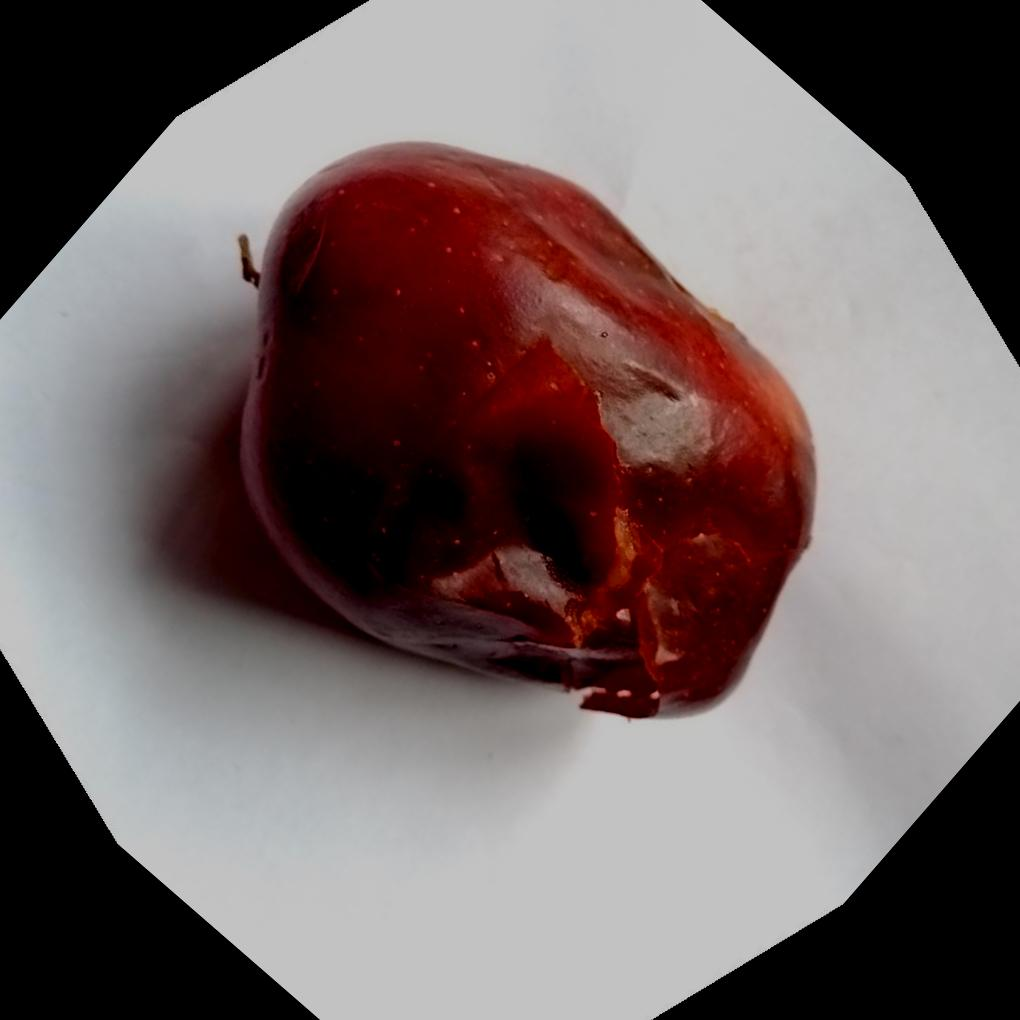FreshOrange: (233, 141, 818, 724)
